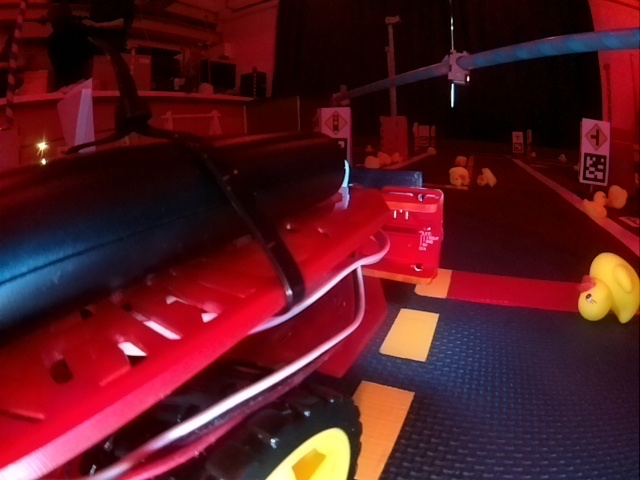Duckie: (577, 252, 638, 322), (584, 192, 607, 218), (607, 186, 626, 207), (477, 168, 496, 187), (450, 168, 469, 186)
Duckiebot: (0, 128, 443, 478)
Intersection sign: (584, 121, 609, 150)
QR code: (582, 152, 607, 182)
Signal sign: (325, 109, 347, 135)
